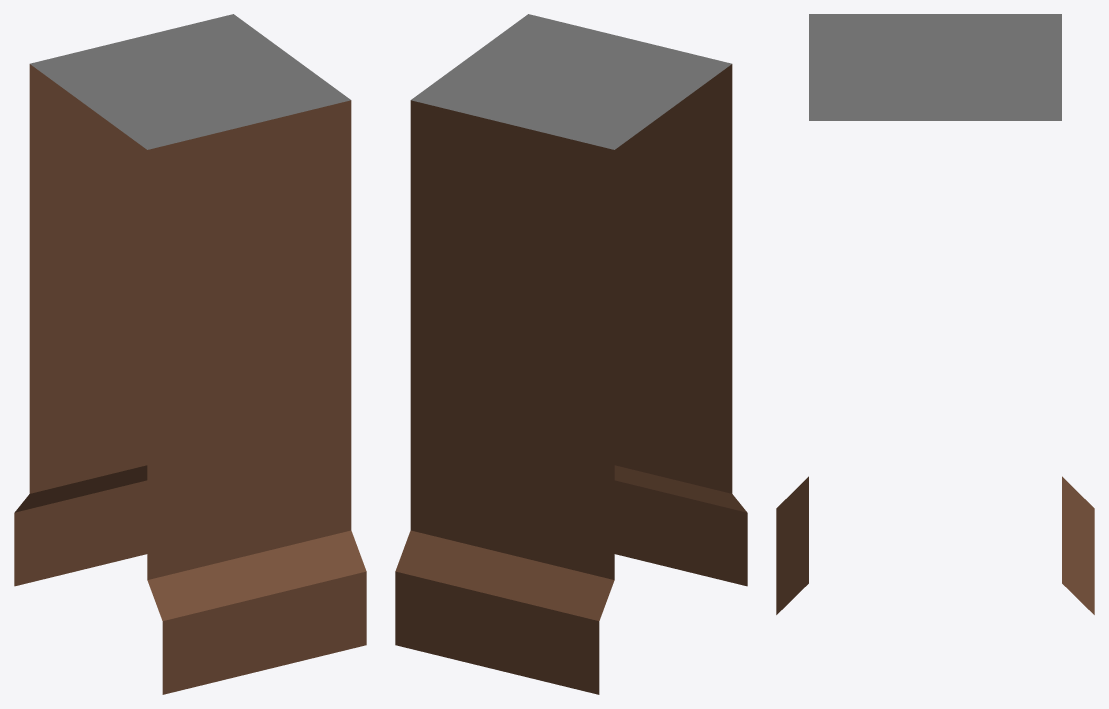
Rendered from Wall_Stone_TwoSided.fbx.
3 views of the same model, side by side, from view 1: azimuth 30°, elevation 25°; view 2: azimuth 150°, elevation 25°; view 3: azimuth 270°, elevation 25° (orthographic). The views are drawn at different scales.
Parts seen in each view (by area): view 1: pPlane31; view 2: pPlane31; view 3: pPlane31.
Part boxes in pixels (<box>): pPlane31: <box>14,14,366,694</box>; pPlane31: <box>395,14,747,694</box>; pPlane31: <box>776,14,1094,614</box>.
Size of the model in its own units: 100 by 250 by 126.
1 material, 1 textured.
